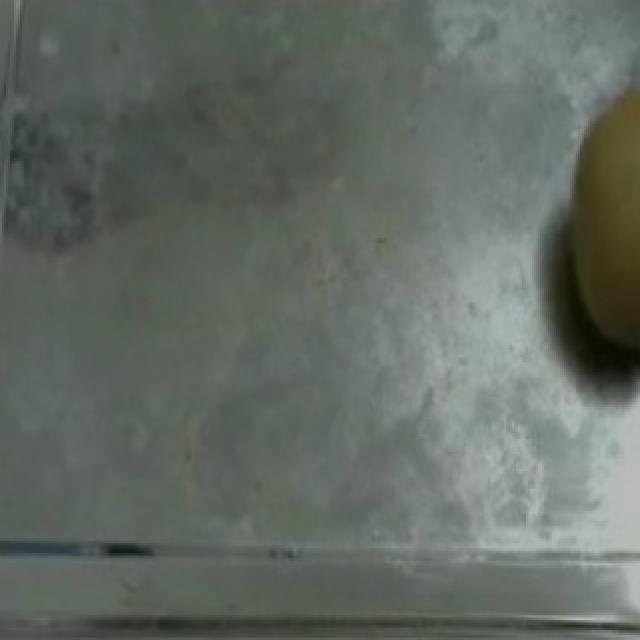Fruit: (518, 62, 640, 380)
